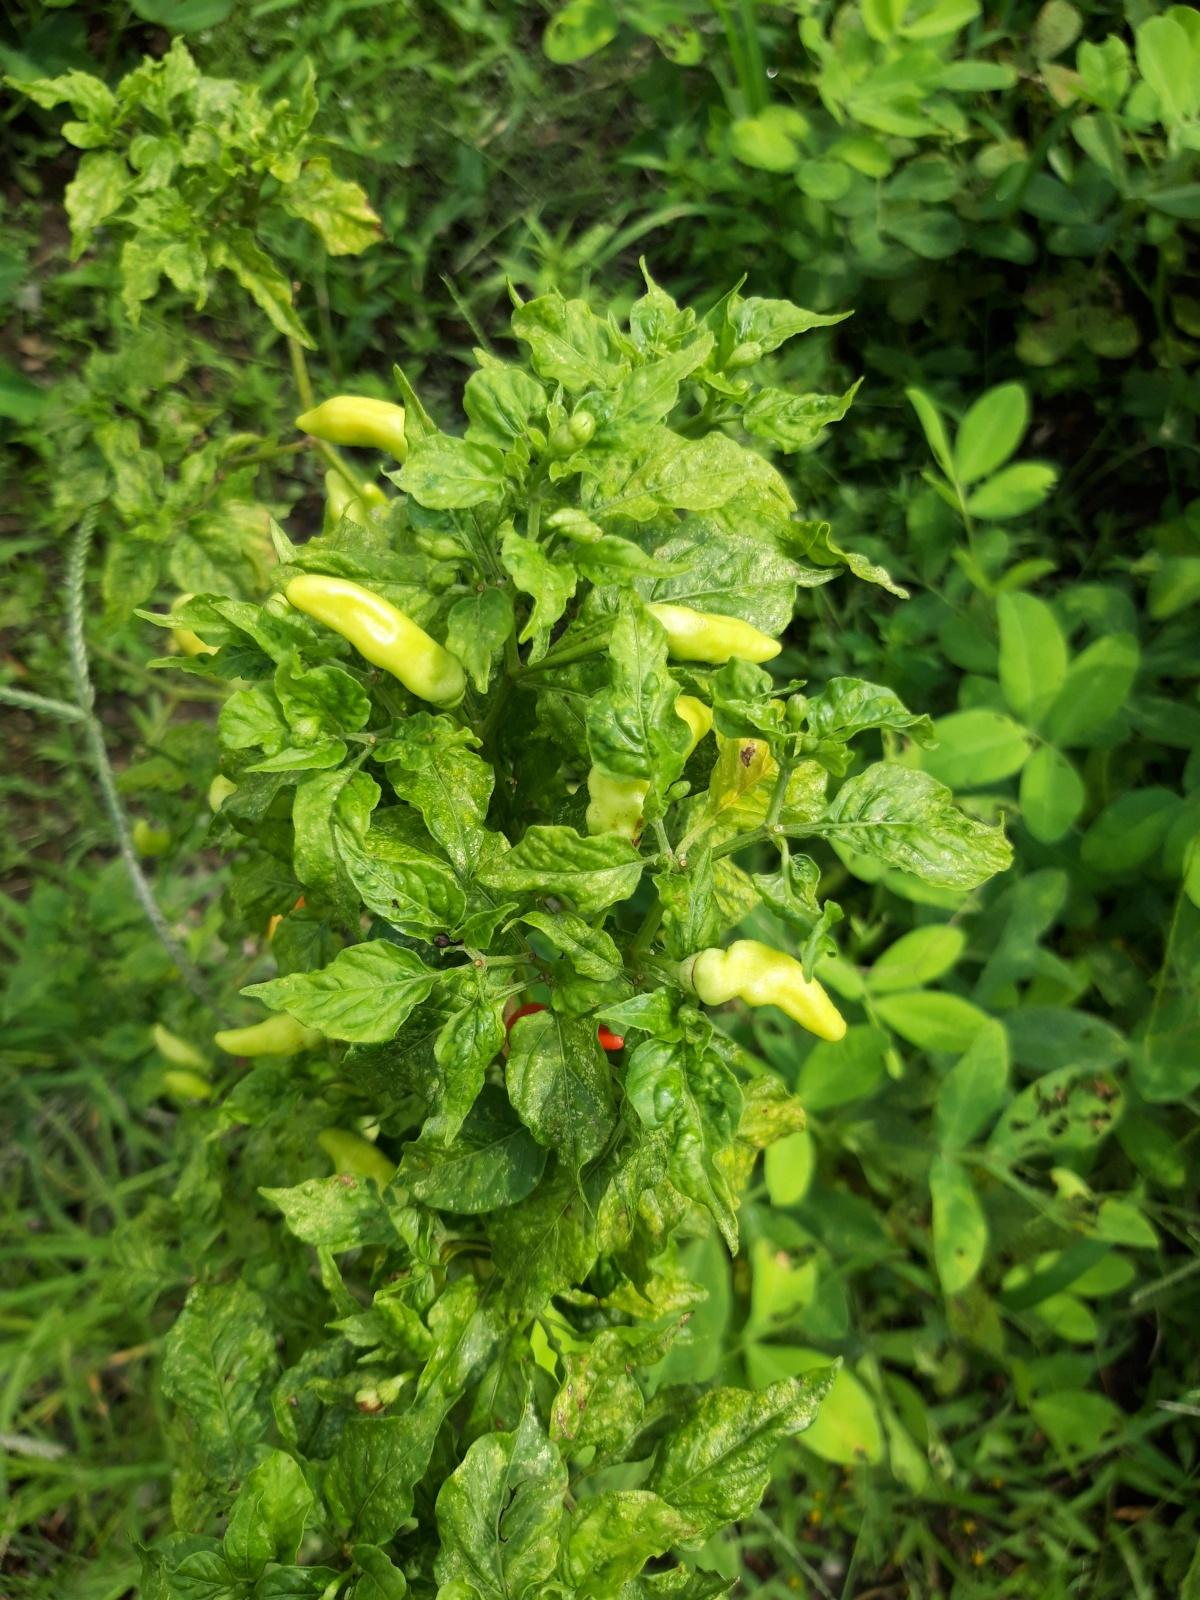cabai_normal: (284, 573, 466, 704), (693, 940, 847, 1034), (292, 396, 447, 471), (645, 602, 783, 666)
